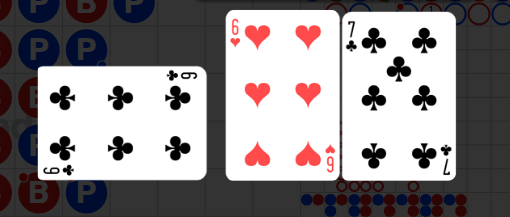6C: (42, 163, 77, 177)
6H: (229, 17, 242, 49)
7C: (345, 19, 359, 54)
